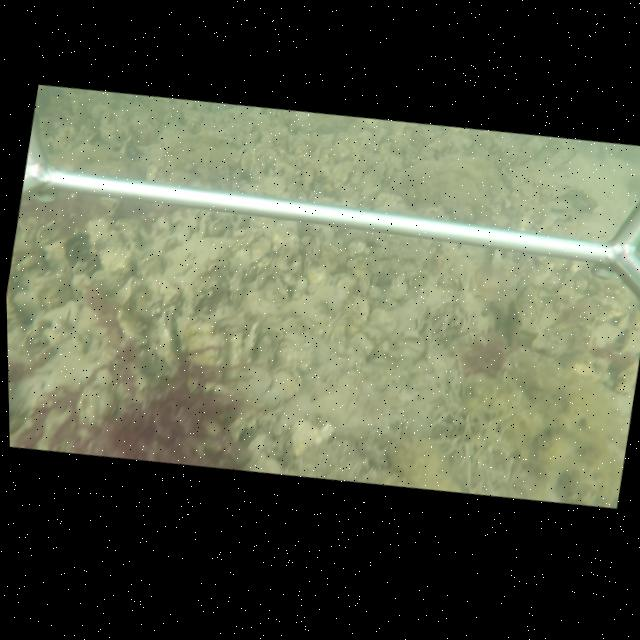Oyster-Closed: (243, 319, 261, 365), (115, 275, 137, 308), (229, 269, 245, 310)
Oyster-Open: (266, 364, 301, 403), (139, 297, 162, 320)
